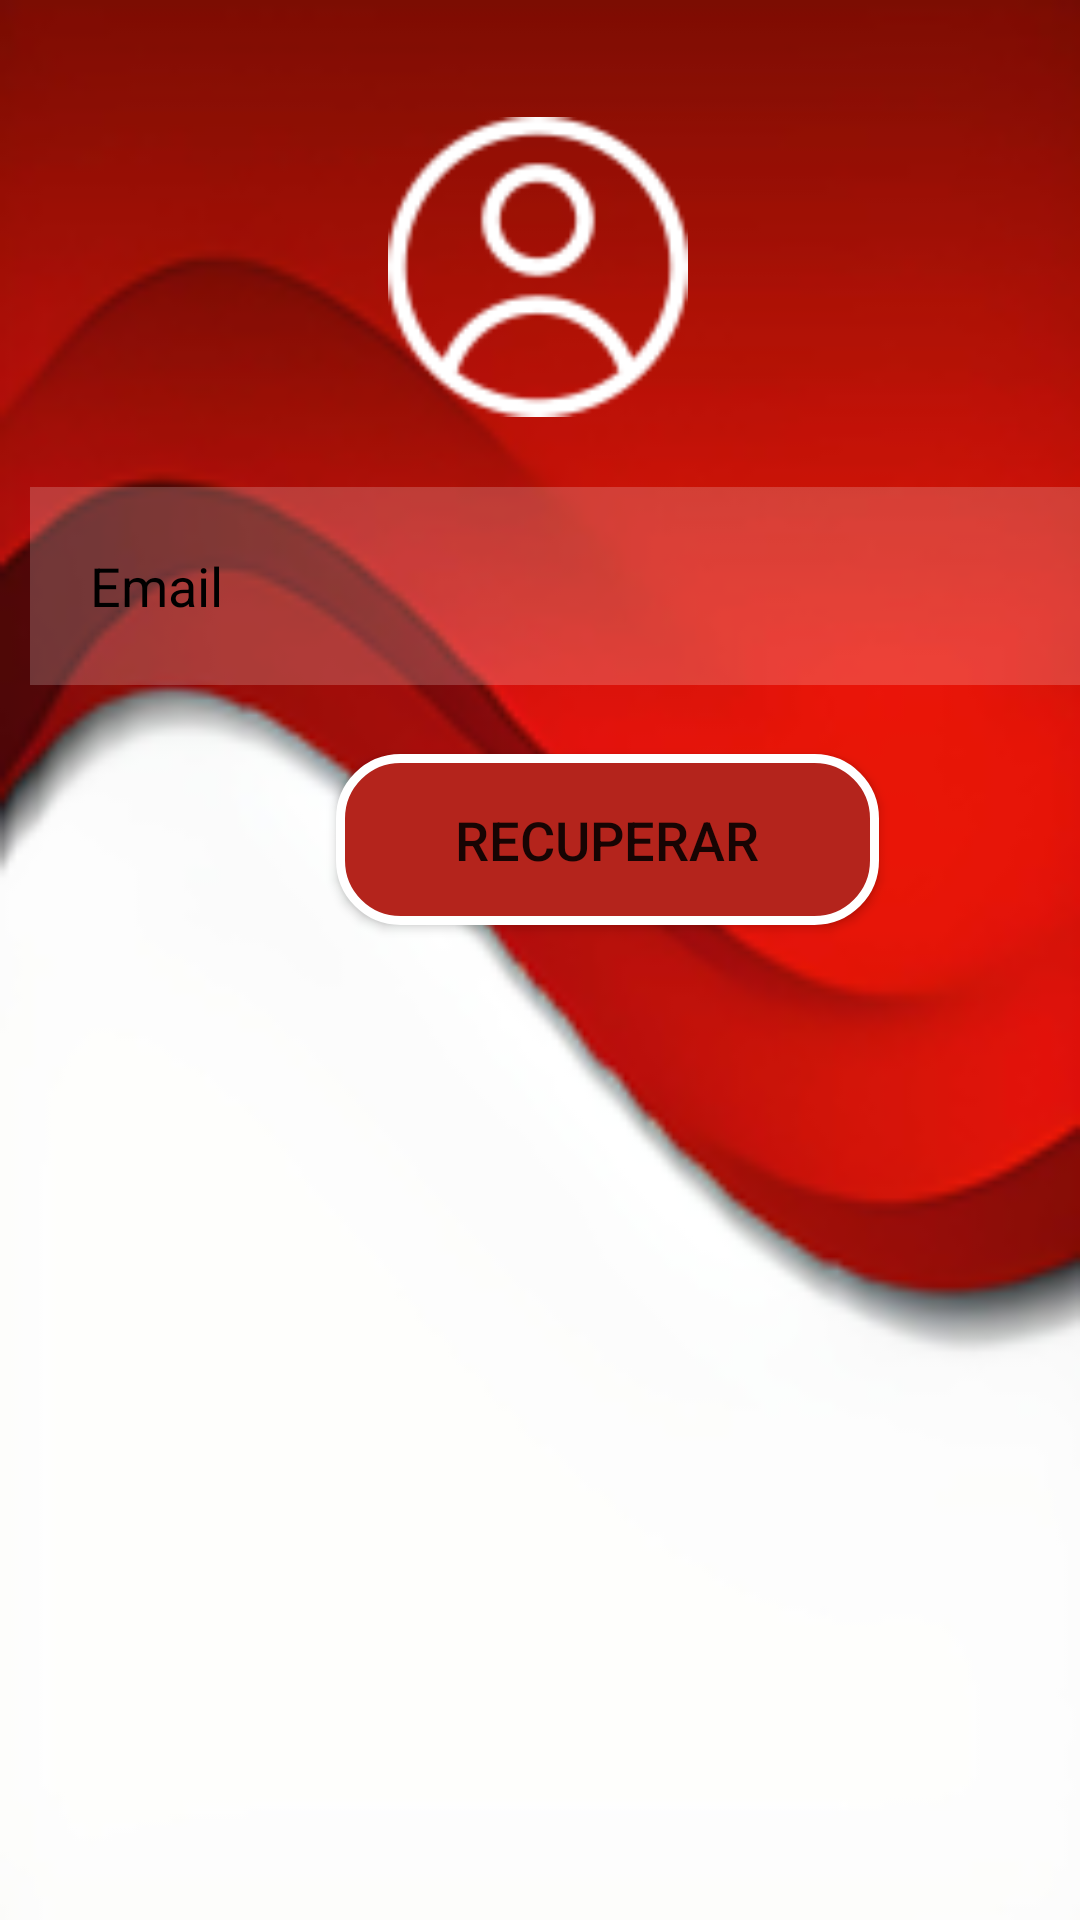

Where icons sit on this 1080 x 1920 app screen, as (x1, y1, x2, y2):
usuario login: (388, 117, 688, 417)
